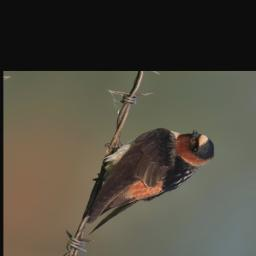Swallow: (73, 118, 224, 249)
